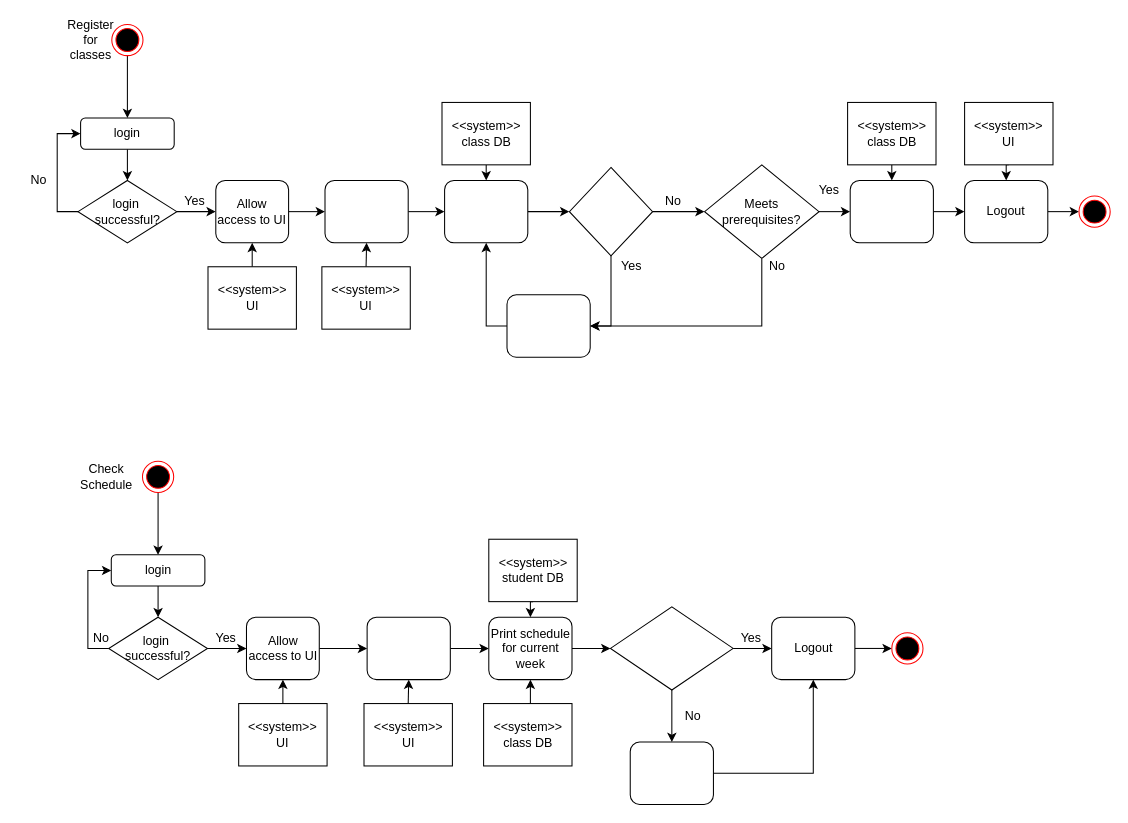
Some shapes in this 1128 by 823 pixel diagram are drawn without their labels. Here are the shapes that lost their labels. From the top down, the centre of each, then its label:
At (366,211): "Go to registration page".
At (486,211): "Enter courses".
At (610,211): "Time conflicts?".
At (891,211): "Register all entered courses".
At (548,325): "Delete conflicting courses".
At (408,648): "Go to schedule page".
At (671,648): "Is this the desired week?".
At (671,772): "Display week from user input".
